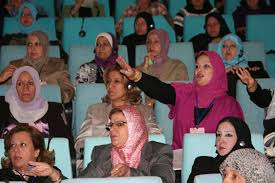middle_eastern_Female: (191, 53, 219, 91), (215, 121, 241, 157)
